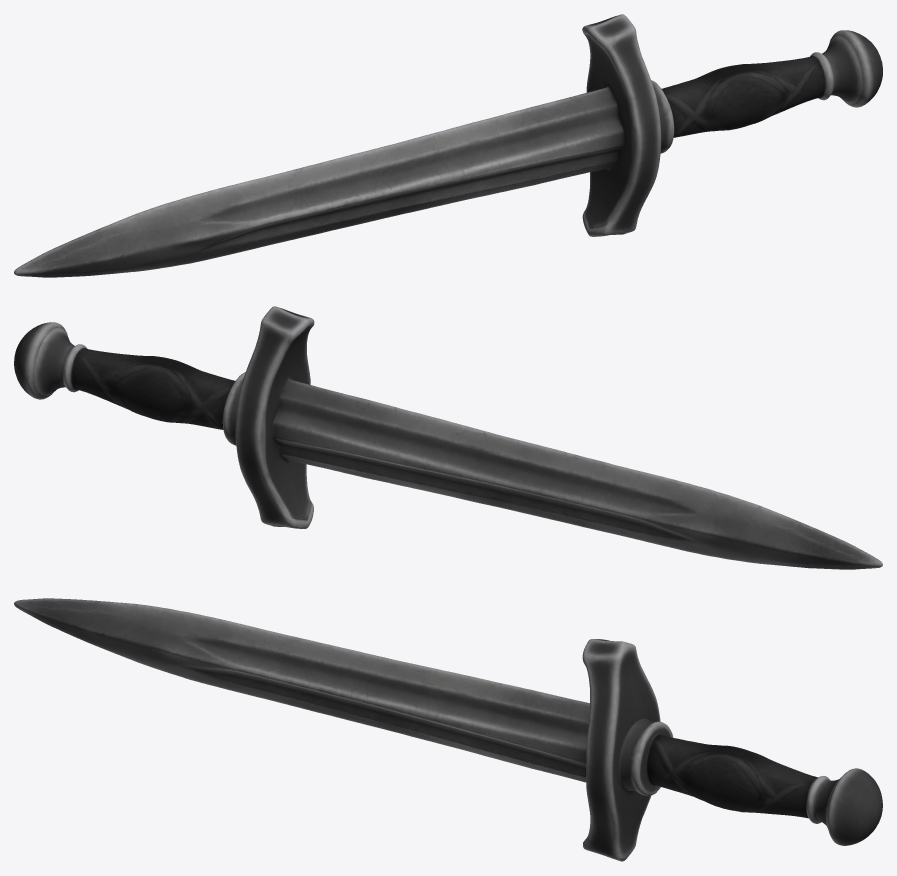
File: shortsword.glb
The picture shows the model from 3 angles, top to bottom: view 1: azimuth 30°, elevation 25°; view 2: azimuth 150°, elevation 25°; view 3: azimuth 330°, elevation 25°; orthographic projection.
Visible parts, largest first — view 1: world; view 2: world; view 3: world.
Boxes of the visible parts, bbox=[...] form: world: bbox=[14, 14, 882, 277]; world: bbox=[14, 306, 882, 569]; world: bbox=[14, 598, 882, 861].
Size of the model in its own units: 1 by 0.2438 by 0.1067.
1 material, 1 textured.
